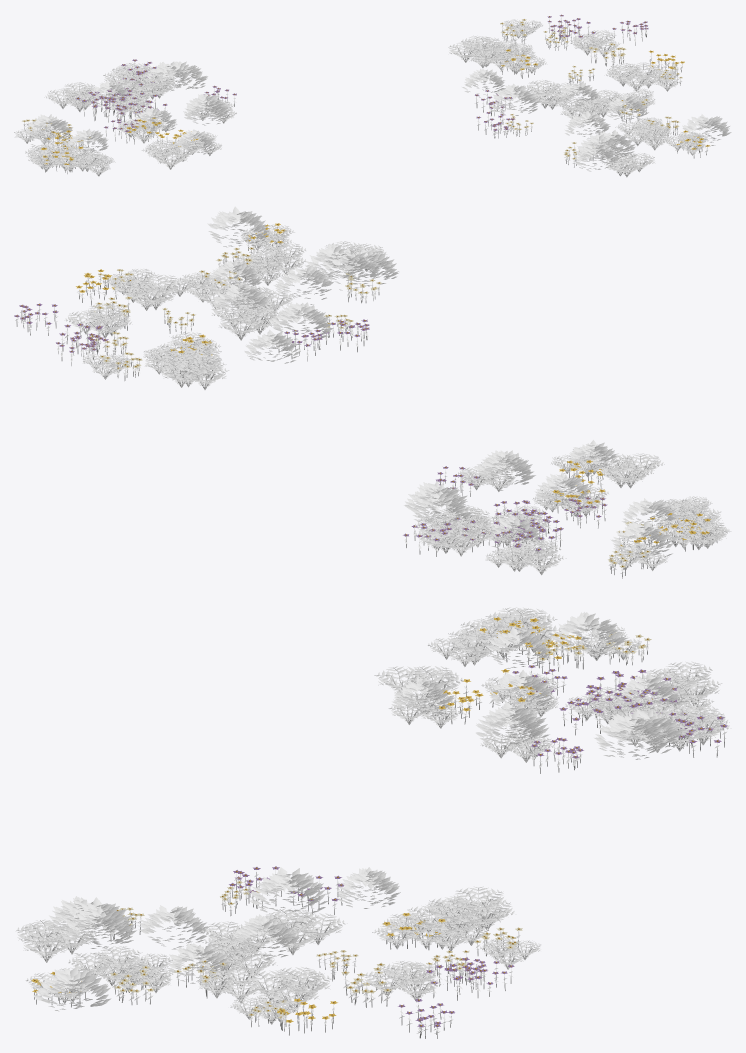
Rendered from SM_DF_Nature_3_2_Flora.fbx.
3 renders of one model, top to bottom at view 1: azimuth 30°, elevation 25°; view 2: azimuth 150°, elevation 25°; view 3: azimuth 270°, elevation 25°, orthographic. The views are drawn at different scales.
Visible parts, largest first — view 1: SM_DF_Nature_3_2_Flora; view 2: SM_DF_Nature_3_2_Flora; view 3: SM_DF_Nature_3_2_Flora.
Part boxes in pixels (x1,y1,x2,y2): SM_DF_Nature_3_2_Flora: (14, 14, 731, 177); SM_DF_Nature_3_2_Flora: (14, 206, 731, 578); SM_DF_Nature_3_2_Flora: (15, 607, 730, 1038).
Size of the model in its own units: 2836 by 1968 by 185.
